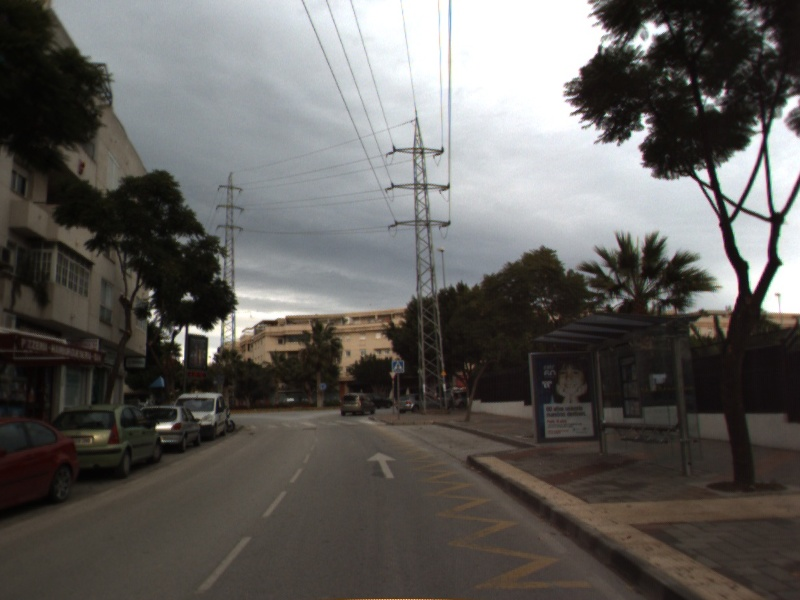STRAIGHT: (365, 450, 399, 480)
